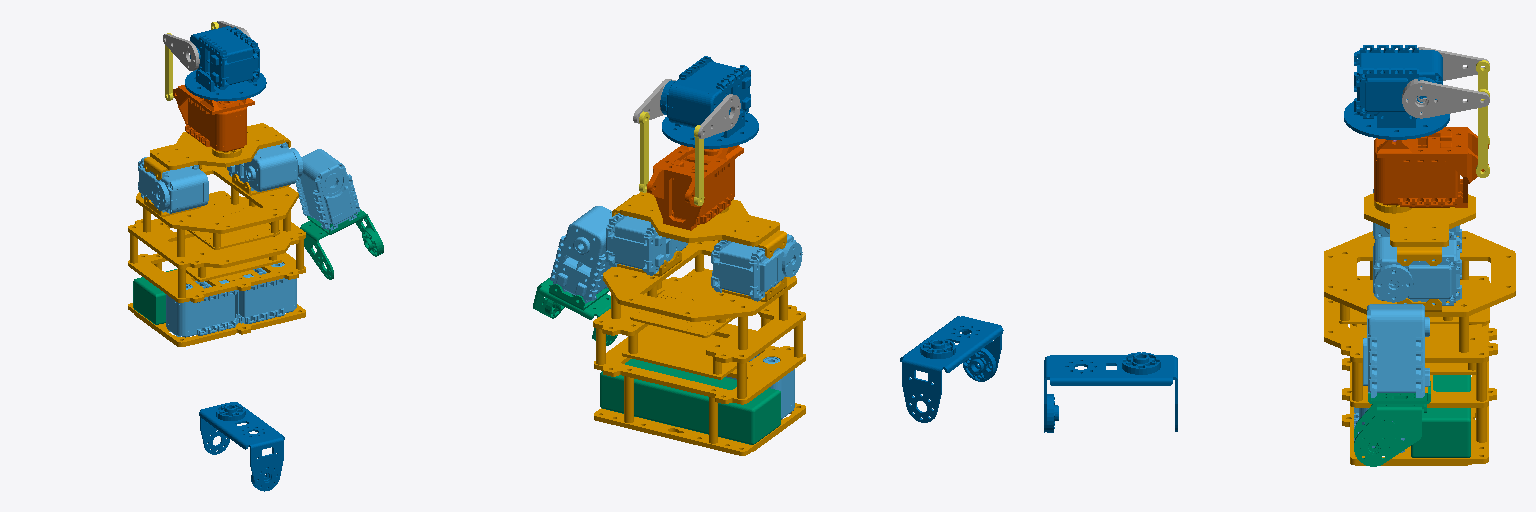
URDF robot description (hros1):
<?xml version="1.0" ?>
<!-- =================================================================================== -->
<!-- |    This document was autogenerated by xacro from hros1_robot.urdf.xacro         | -->
<!-- |    EDITING THIS FILE BY HAND IS NOT RECOMMENDED                                 | -->
<!-- =================================================================================== -->
<robot name="hros1" xmlns:xacro="http://ros.org/wiki/xacro">
  <!--
    <xacro:include filename="$(find hros1_description)/urdf/hros1_right_arm.xacro"/>
    <xacro:include filename="$(find hros1_description)/urdf/hros1_right_leg.xacro"/>
  -->
  <!--  MAIN BODY  -->
  <!--  MAIN LINK  -->
  <link name="body_structure_link">
    <gravity>1</gravity>
    <self_collide>0</self_collide>
    <kinematic>0</kinematic>
    <static>1</static>
    <visual name="body_structure_visual">
      <origin rpy="0 -0 0" xyz="0 0 0"/>
      <geometry>
        <mesh filename="package://hros1_description/meshes/body_structure.stl"/>
      </geometry>
      <!--
        <material>
          <script>
            <uri>file:/[local-path]/scripts/gazebo.material</uri>
            <name>Gazebo/Grey</name>
          </script>
        </material>
        -->
    </visual>
    <collision name="collision">
      <origin rpy="0 0 0" xyz="0 -0.055 0.08"/>
      <geometry>
        <box size="0.08 0.07 0.12"/>
      </geometry>
    </collision>
    <inertial>
      <origin rpy=" 0 -0 0" xyz="0 -0.065 0.082"/>
      <mass value="0.273"/>
      <inertia ixx="0.00074" ixy="-0.0000022" ixz="0.000000010" iyy="0.00088" iyz="0.000012" izz="0.00047"/>
    </inertial>
  </link>
  <!--  SERVOS ON BODY  -->
  <!--  JOINTS CONNECTED HERE  -->
  <link name="body_servos_link">
    <origin rpy="0 -0 0" xyz="0 0 0"/>
    <gravity>1</gravity>
    <self_collide>0</self_collide>
    <kinematic>0</kinematic>
    <visual name="body_servos_visual">
      <pose>0 0 0 0 -0 0</pose>
      <geometry>
        <mesh filename="package://hros1_description/meshes/body_servos.stl"/>
      </geometry>
    </visual>
    <inertial>
      <origin rpy=" 0 -0 0" xyz="0 -0.055 0.086"/>
      <mass value="0.221"/>
      <inertia ixx="0.000056" ixy="0.000000068" ixz="0.00000015" iyy="0.00078" iyz="-0.00010" izz="0.00031"/>
    </inertial>
  </link>
  <!--  MAIN BATTERY  -->
  <!--  ADDED FOR WEIGHT  -->
  <link name="body_battery_link">
    <origin rpy="0 -0 0" xyz="0 0 0"/>
    <gravity>0</gravity>
    <self_collide>0</self_collide>
    <kinematic>0</kinematic>
    <visual name="body_battery_visual">
      <origin rpy="0 -0 0" xyz="0 0 0"/>
      <geometry>
        <mesh filename="package://hros1_description/meshes/body_battery.stl"/>
      </geometry>
    </visual>
    <inertial>
      <origin rpy=" 0 -0 0" xyz="0 -0.078 0.036"/>
      <mass value="0.25"/>
      <inertia ixx="0.000037" ixy="-0.000000049" ixz="0.0" iyy="0.00026" iyz="0.0" izz="0.00027"/>
    </inertial>
  </link>
  <joint name="body_servos_fixture_joint" type="fixed">
    <parent link="body_structure_link"/>
    <child link="body_servos_link"/>
    <axis>
      <xyz>0 0 1</xyz>
    </axis>
  </joint>
  <joint name="body_battery_fixture_joint" type="fixed">
    <parent link="body_structure_link"/>
    <child link="body_battery_link"/>
    <axis>
      <xyz>0 1 0</xyz>
    </axis>
  </joint>
  <!--  ATTACHED TO TOP OF BODY -->
  <link name="neck_link_1_link">
    <origin rpy="0 -0 0" xyz="0 0 0"/>
    <gravity>1</gravity>
    <self_collide>0</self_collide>
    <kinematic>0</kinematic>
    <visual name="neck_link_1_visual">
      <origin rpy="0 -0 0" xyz="0 0 0"/>
      <geometry>
        <mesh filename="package://hros1_description/meshes/hros1_neck_link_1_moved.stl"/>
      </geometry>
    </visual>
    <inertial>
      <origin rpy="0 -0 0" xyz="0 -0.101 0.208"/>
      <mass value="0.005"/>
      <inertia ixx="0.0000012" ixy="0.0" ixz="0.0" iyy="0.0000032" iyz="0.0" izz="0.000002"/>
    </inertial>
  </link>
  <!--  NECK Head (Pitch Servo) -->
  <!--  ATTACHED TO BACK OF HEAD  -->
  <link name="neck_head_link">
    <origin rpy="0 -0 0" xyz="0 0 0"/>
    <gravity>1</gravity>
    <self_collide>1</self_collide>
    <kinematic>0</kinematic>
    <visual name="neck_head_visual">
      <origin rpy="0 -0 0" xyz="0 0 0"/>
      <geometry>
        <mesh filename="package://hros1_description/meshes/hros1_neck_head_servo_moved.stl"/>
      </geometry>
    </visual>
    <collision name="collision">
      <origin rpy="0 0 0 " xyz=" 0.0 -0.05 0.22"/>
      <geometry>
        <box size="0.02 0.02 0.02"/>
      </geometry>
    </collision>
    <inertial>
      <mass value="0.127"/>
      <inertia ixx="0.000036" ixy="0.00000050" ixz="-0.00000017" iyy="0.000027" iyz="-0.00000037" izz="0.000038"/>
    </inertial>
  </link>
  <!--  NECK Base (YAW SERVO) -->
  <!--  ATTACHED TO BACK OF HEAD  -->
  <link name="neck_base_link">
    <origin rpy="0 -0 0" xyz="0 0.0 0.0"/>
    <gravity>1</gravity>
    <self_collide>0</self_collide>
    <kinematic>0</kinematic>
    <visual name="neck_base_visual">
      <origin rpy="0 -0 0" xyz="0 0.0 0"/>
      <geometry>
        <mesh filename="package://hros1_description/meshes/hros1_neck_base_moved.stl"/>
      </geometry>
    </visual>
    <inertial>
      <origin rpy="0 -0 0" xyz="0 0.052 0"/>
      <mass value="0.075"/>
      <inertia ixx="0.000029" ixy="0.000000002" ixz="-0.0000000069" iyy="0.000016" iyz="0.00000045" izz="0.000026"/>
    </inertial>
  </link>
  <!--  Neck Head Platform  -->
  <!--  Supports to head; should be able to tilt  -->
  <link name="neck_base_platform_link">
    <origin rpy="0 -0 0" xyz="0 0 0"/>
    <gravity>1</gravity>
    <self_collide>1</self_collide>
    <kinematic>0</kinematic>
    <visual name="neck_base_platform_visual">
      <origin rpy="0 -0 0" xyz="0 0 0"/>
      <geometry>
        <mesh filename="package://hros1_description/meshes/hros1_neck_base_platform_moved.stl"/>
      </geometry>
    </visual>
    <collision name="collision">
      <origin rpy="0 0 0" xyz="0 -0.046 0.20955"/>
      <geometry>
        <cylinder length="0.0025" radius="0.02"/>
      </geometry>
    </collision>
    <inertial>
      <origin rpy="0 -0 0" xyz="0 -0.052 0.207"/>
      <mass value="0.012"/>
      <inertia ixx="0.0000017" ixy="0.0" ixz="0.0" iyy="0.0000019" iyz="0.0" izz="0.0000034"/>
    </inertial>
  </link>
  <!--  NECK Link 2  -->
  <!--  ATTACHED TO Head Servo  -->
  <link name="neck_link_2_link">
    <origin rpy="0 -0 0" xyz="0 0 0"/>
    <gravity>1</gravity>
    <self_collide>0</self_collide>
    <kinematic>0</kinematic>
    <visual name="neck_link_2_visual">
      <origin rpy="0 -0 0" xyz="0 0 0"/>
      <geometry>
        <mesh filename="package://hros1_description/meshes/hros1_neck_link_2_moved.stl"/>
      </geometry>
    </visual>
    <inertial>
      <origin rpy="0 -0 0" xyz="0 -0.077 0.231"/>
      <mass value="0.011"/>
      <inertia ixx="0.000002" ixy="0.0" ixz="0.0" iyy="0.0000057" iyz="0.0" izz="0.0000071"/>
    </inertial>
  </link>
  <joint name="neck_yaw_powered_joint" type="revolute">
    <parent link="body_structure_link"/>
    <child link="neck_base_link"/>
    <limit effort="1" lower="-3.1415" upper="3.1415" velocity="1"/>
    <axis xyz="0 0 1"/>
    <origin rpy="0 -0 0" xyz="0 0.052 0.16"/>
  </joint>
  <joint name="neck_base_platform_free_joint" type="revolute">
    <parent link="neck_base_link"/>
    <child link="neck_base_platform_link"/>
    <limit effort="0" lower="-3.1415" upper="3.1415" velocity="1"/>
    <axis xyz="1 0 0"/>
    <origin rpy="0 -0 0" xyz="0.0 0.0005 0.0425"/>
  </joint>
  <joint name="neck_pitch_1_free_joint" type="continuous">
    <parent link="neck_base_link"/>
    <child link="neck_link_1_link"/>
    <limit effort="0" lower="-3.1415" upper="3.1415" velocity="1"/>
    <axis xyz="1 0 0"/>
    <origin rpy="0 -0 0" xyz="0 0.05 0.026"/>
  </joint>
  <joint name="neck_pitch_2_free_joint" type="continuous">
    <parent link="neck_link_1_link"/>
    <child link="neck_link_2_link"/>
    <limit effort="0" lower="-3.1415" upper="3.1415" velocity="1"/>
    <axis xyz="1 0 0"/>
    <origin rpy="0 -0 0" xyz="0 0 0.046"/>
  </joint>
  <joint name="neck_pitch_main_powered_joint" type="revolute">
    <parent link="neck_link_2_link"/>
    <child link="neck_head_link"/>
    <limit effort="1" lower="-3.1415" upper="3.1415" velocity="1"/>
    <axis xyz="-1 0 0"/>
    <origin rpy="0 -0 0" xyz="0 -0.034 0.0"/>
  </joint>
  <!--  LEFT ARM SHOULDER  -->
  <link name="left_arm_shoulder_link">
    <origin rpy="0 -0 0" xyz="0 0 0"/>
    <gravity>1</gravity>
    <self_collide>0</self_collide>
    <kinematic>0</kinematic>
    <visual name="left_arm_shoulder_visual">
      <origin rpy="0 -0 0" xyz="0 0 0"/>
      <geometry>
        <mesh filename="package://hros1_description/meshes/hros1_left_arm_shoulder_moved.stl"/>
      </geometry>
    </visual>
    <inertial>
      <origin rpy="0 -0 0" xyz="0.068 -0.052 0.131"/>
      <mass value="0.011"/>
      <inertia ixx="0.0000051" ixy="0.0" ixz="0.00000058" iyy="0.0000023" iyz="0.0" izz="0.000005"/>
    </inertial>
  </link>
  <!--  LEFT ARM UPPER SERVO  -->
  <link name="left_arm_upper_servo_link">
    <origin xyz="0 0 0 0 -0 0"/>
    <gravity>1</gravity>
    <self_collide>0</self_collide>
    <kinematic>0</kinematic>
    <visual name="left_arm_upper_servo_visual">
      <origin rpy="0 -0 0" xyz="0 0 0"/>
      <geometry>
        <mesh filename="package://hros1_description/meshes/hros1_left_arm_upper_servo_moved.stl"/>
      </geometry>
    </visual>
    <inertial>
      <origin rpy="0 -0 0" xyz="0.085 -0.051 0.106"/>
      <mass value="0.055"/>
      <inertia ixx="0.000015" ixy="0.000000062" ixz="0.0000017" iyy="0.000013" iyz="-0.00000025" izz="0.0000089"/>
    </inertial>
  </link>
  <!--  LEFT ARM Elbow  -->
  <link name="left_arm_elbow_link">
    <origin rpy="0 -0 0" xyz="0 0 0"/>
    <gravity>1</gravity>
    <self_collide>0</self_collide>
    <kinematic>0</kinematic>
    <visual name="left_arm_elbow_visual">
      <origin rpy="0 -0 0" xyz="0 0 0"/>
      <geometry>
        <mesh filename="package://hros1_description/meshes/hros1_left_arm_elbow_link_moved.stl"/>
      </geometry>
    </visual>
    <inertial>
      <origin rpy="0 -0 0" xyz="0.093 -0.050 0.072"/>
      <mass value="0.016"/>
      <inertia ixx="0.0000036" ixy="0.00000016" ixz="-0.00000062" iyy="0.0000056" iyz="-0.00000064" izz="0.0000058"/>
    </inertial>
  </link>
  <!--  LEFT ARM FOREARM SERVO  -->
  <link name="left_arm_forearm_servo_link">
    <origin rpy="0 -0 0" xyz="0 0 0"/>
    <gravity>1</gravity>
    <self_collide>0</self_collide>
    <kinematic>0</kinematic>
    <visual name="left_arm_forearm_servo_visual">
      <origin rpy="0 -0 0" xyz="0 0 0"/>
      <geometry>
        <mesh filename="package://hros1_description/meshes/hros1_left_arm_forearm_servo_moved.stl"/>
      </geometry>
    </visual>
    <inertial>
      <origin rpy="0 -0 0" xyz="0.100 -0.028 0.047"/>
      <mass value="0.055"/>
      <inertia ixx="0.000013" ixy="0.0000011" ixz="0.00000051" iyy="0.000012" iyz="-0.0000034" izz="0.000012"/>
    </inertial>
  </link>
  <joint name="left_shoulder_pitch_powered_joint" type="revolute">
    <parent link="body_structure_link"/>
    <child link="left_arm_shoulder_link"/>
    <axis xyz="-1 0 0"/>
    <origin rpy="0 0 0" xyz="0.051 0.052 0.133"/>
    <limit effort="1" lower="-3.1415" upper="3.1415" velocity="1"/>
  </joint>
  <joint name="left_shoulder_roll_powered_joint" type="revolute">
    <parent link="left_arm_shoulder_link"/>
    <child link="left_arm_upper_servo_link"/>
    <axis xyz="0 -1 0"/>
    <origin rpy="0 0 0" xyz="0.03 0.02 -0.015"/>
    <limit effort="1" lower="-3.1415" upper="3.1415" velocity="1"/>
  </joint>
  <joint name="left_shoulder-elbow_fixed_joint" type="fixed">
    <parent link="left_arm_upper_servo_link"/>
    <child link="left_arm_elbow_link"/>
    <axis xyz="0 -1 0"/>
    <origin rpy="0 0 0" xyz="0.002 -0.033 -0.037"/>
  </joint>
  <joint name="left_elbow_powered_joint" type="revolute">
    <parent link="left_arm_elbow_link"/>
    <child link="left_arm_forearm_servo_link"/>
    <axis xyz="-0.8 0.0 -0.2"/>
    <origin rpy="0 0 0" xyz="-0.005 0.0 -0.03"/>
    <limit effort="1" lower="-3.1415" upper="3.1415" velocity="1"/>
  </joint>
  <!-- LEFT Upper HIP  -->
  <link name="left_leg_upper_hip_link">
    <origin rpy="0 -0 0" xyz="0 0 0"/>
    <gravity>1</gravity>
    <self_collide>0</self_collide>
    <kinematic>0</kinematic>
    <visual name="left_leg_upper_hip_visual">
      <origin rpy="0 -0 0" xyz="0 0 0"/>
      <geometry>
        <mesh filename="package://hros1_description/meshes/HROS1_Simple - Left_Leg_Yaw_Link.stl"/>
      </geometry>
    </visual>
    <inertial>
      <origin rpy="0 -0 0" xyz="0.039 -0.062 0.011"/>
      <mass value="0.017"/>
      <inertia ixx="0.000016" ixy="0.0" ixz="0.0" iyy="0.0000035" iyz="0.0" izz="0.000015"/>
    </inertial>
  </link>
  <!-- LEFT LOWER HIP  -->
  <!--
    <link name='left_leg_lower_hip_link'>
      <origin xyz="0 0 0 0 -0 0"/>
      <gravity>1</gravity>
      <self_collide>0</self_collide>
      <kinematic>0</kinematic>

      <visual name='left_leg_lower_hip_visual'>
        <origin xyz="0 0 0" rpy="0 -0 0"/>
        <geometry>
          <mesh filename="package://hros1_description/meshes/HROS1_Simple - Left_Leg_Hip_Joint.stl"/>
        </geometry>
      </visual>
      
      <inertial>
        <origin xyz="0.039 -0.062 -0.024" rpy="0 -0 0"/>
        <mass value="0.110"/>
        <inertia
          ixx="0.000058"
          ixy="-0.00000051"
          ixz="-0.00000024"
          
          iyy="0.000029"
          iyz="0.00000027"
          
          izz="0.000046"
          />
      </inertial>
    </link> 
-->
  <!-- LEFT THIGH  -->
  <!--
    <link name='left_leg_thigh_link'>
      <origin xyz="0 0 0 0 -0 0"/>
      <gravity>1</gravity>
      <self_collide>0</self_collide>
      <kinematic>0</kinematic>

      <visual name='left_leg_thigh_visual'>
        <origin xyz="0 0 0" rpy="0 -0 0"/>
        <geometry>
          <mesh filename="package://hros1_description/meshes/HROS1_Simple - Left_Leg_Thigh.stl"/>
        </geometry>
      </visual>
      
      <inertial>
        <origin xyz="0.039 -0.034 -0.053" rpy="0 -0 0"/>
        <mass value="0.028"/>
        <inertia
          ixx="0.000016"
          ixy="0.0"
          ixz="0.0"
          
          iyy="0.000023"
          iyz="-0.000002"
          
          izz="0.000013"
          />
      </inertial>
    </link>
-->
  <!-- LEFT KNEE  -->
  <!--
    <link name='left_leg_knee_link'>
      <origin xyz="0 0 0" rpy="0 -0 0"/>
      <gravity>1</gravity>
      <self_collide>0</self_collide>
      <kinematic>0</kinematic>

      <visual name='left_leg_knee_visual'>
        <origin xyz="0 0 0" rpy="0 -0 0"/>
        <geometry>
          <mesh filename="package://hros1_description/meshes/HROS1_Simple - Left_Leg_Knee.stl"/>
        </geometry>
      </visual>
      
      <inertial>
        <origin xyz="0.038 -0.027 -0.091" rpy="0 -0 0"/>
        <mass value="0.055"/>
        <inertia
          ixx="0.000013"
          ixy="-0.00000025"
          ixz="-0.000000074"
          
          iyy="0.0000090"
          iyz="-0.0000019"
          
          izz="0.000015"
          />
      </inertial>
    </link>
-->
  <!-- LEFT SHIN  -->
  <!--
    <link name='left_leg_shin_link'>
      <origin xyz="0 0 0" rpy="0 -0 0"/>
      <gravity>1</gravity>
      <self_collide>0</self_collide>
      <kinematic>0</kinematic>

      <visual name='left_leg_shin_visual'>
        <origin xyz="0 0 0" rpy="0 -0 0"/>
        <geometry>
          <mesh filename="package://hros1_description/meshes/HROS1_Simple - Left_Leg_Shin.stl"/>
        </geometry>
      </visual>
      
      <inertial>
        <origin xyz="0.039 -0.035 -0.125" rpy="0 -0 0"/>
        <mass value="0.021"/>
        <inertia
          ixx="0.0000094"
          ixy="0.0"
          ixz="0.0"
          
          iyy="0.000014"
          iyz="0.0000018"
          
          izz="0.0000088"
          />
      </inertial>
    </link>
-->
  <!-- LEFT ANKLE  -->
  <!--
    <link name='left_leg_ankle_link'>
      <origin xyz="0 0 0" rpy="0 -0 0"/>
      <gravity>1</gravity>
      <self_collide>0</self_collide>
      <kinematic>0</kinematic>

      <visual name='left_leg_ankle_visual'>
        <origin xyz="0 0 0" rpy="0 -0 0"/>
        <geometry>
          <mesh filename="package://hros1_description/meshes/HROS1_Simple - Left_Leg_Ankle_Joint.stl"/>
        </geometry>
      </visual>
      
      <inertial>
        <origin xyz="0.039 -0.062 -0.147" rpy="0 -0 0"/>
        <mass value="0.110"/>
        <inertia
          ixx="0.000058"
          ixy="-0.00000045"
          ixz="0.00000027"
          
          iyy="0.000029"
          iyz="-0.00000024"
          
          izz="0.000046"
          />
      </inertial>
    </link>
-->
  <!-- LEFT FOOT  -->
  <!--
    <link name='left_leg_foot_link'>
      <origin xyz="0 0 0" rpy="0 -0 0"/>
      <gravity>1</gravity>
      <self_collide>0</self_collide>
      <kinematic>0</kinematic>

      <visual name='left_leg_foot_visual'>
        <origin xyz="0 0 0" rpy="0 -0 0"/>
        <geometry>
          <mesh filename="package://hros1_description/meshes/HROS1_Simple - Left_Leg_Foot.stl"/>
        </geometry>
      </visual>
      
      <collision name="collision">
        <origin xyz=" -0.05 -0.05 -0.195" rpy="0 0 0 "/>
        <geometry>
          <box size="0.065 .1 0.01"/>
        </geometry>
      </collision>
      
      <inertial>
        <origin xyz="0.046 -0.052 -0.188" rpy="0 -0 0"/>
        <mass value="0.067"/>
        <inertia
          ixx="0.000006"
          ixy="0.0000017"
          ixz="0.0000011"
          
          iyy="0.000026"
          iyz="-0.0000014"
          
          izz="0.00008"
          />
      </inertial>
    </link>
 -->
  <joint name="left_hip_yaw_powered_joint" type="revolute">
    <parent link="body_structure_link"/>
    <child link="left_leg_upper_hip_link"/>
    <axis xyz="0 0 1"/>
    <origin rpy="0 0 0" xyz="-0.040 -0.045 0"/>
    <limit effort="1" lower="-3.1415" upper="3.1415" velocity="1"/>
  </joint>
  <!--
  <joint name="left_hip_roll_powered_joint" type="revolute">
    <parent link="left_leg_upper_hip_link"/>
    <child link="left_leg_lower_hip_link"/>
    <axis xyz="0 0 1"/>
    <origin xyz="-0.040 -0.045 -0.01" rpy="0 0 0"/>
    <limit effort="1" velocity="1" upper="3.1415" lower="-3.1415"/>
  </joint>
  
  
  <joint name="left_hip_pitch_powered_joint" type="revolute">
    <parent link="left_leg_lower_hip_link"/>
    <child link="left_leg_thigh_link"/>
    <axis xyz="0 0 1"/>
    <origin xyz="-0.040 -0.045 -0.01" rpy="0 0 0"/>
    <limit effort="1" velocity="1" upper="3.1415" lower="-3.1415"/>
  </joint>
  
  
  <joint name="left_knee_pitch_powered_joint" type="revolute">
    <parent link="left_leg_thigh_link"/>
    <child link="left_leg_knee_link"/>
    <axis xyz="0 0 1"/>
    <origin xyz="-0.015 -0.04 -0.09" rpy="0 0 0"/>
    <limit effort="1" velocity="1" upper="3.1415" lower="-3.1415"/>
  </joint>
  
  
  <joint name="left_knee-shin_fixed_joint" type="fixed">
    <parent link="left_leg_knee_link"/>
    <child link="left_leg_shin_link"/>
    <axis xyz="0 0 1"/>
    <origin xyz="-0.015 -0.04 -0.09" rpy="0 0 0"/>
    <limit effort="1" velocity="1" upper="3.1415" lower="-3.1415"/>
  </joint>
  
  
  <joint name="left_ankle_pitch_powered_joint" type="revolute">
    <parent link="left_leg_shin_link"/>
    <child link="left_leg_ankle_link"/>
    <axis xyz="0 0 1"/>
    <origin xyz="-0.015 -0.045 -0.16" rpy="0 0 0"/>
    <limit effort="1" velocity="1" upper="3.1415" lower="-3.1415"/>
  </joint>
  
  
  <joint name="left_ankle_roll_powered_joint" type="revolute">
    <parent link="left_leg_ankle_link"/>
    <child link="left_leg_foot_link"/>
    <axis xyz="0 0 1"/>
    <origin xyz="-0.04 -0.045 -0.16" rpy="0 0 0"/>
    <limit effort="1" velocity="1" upper="3.1415" lower="-3.1415"/>
  </joint>
  -->
  <!--
    <xacro:right_arm_links />
    <xacro:right_arm_joints />
    <xacro:right_leg_links />
    <xacro:right_leg_joints />
    -->
  <link name="world"/>
  <joint name="fixed_joint" type="fixed">
    <parent link="world"/>
    <child link="body_structure_link"/>
    <axis>
      <xyz>0 0 1</xyz>
    </axis>
  </joint>
</robot>

--- What the picture shows (computed from the rendered views, not written in the file) ---
Views: 3 orthographic renders of the robot side by side, from view 1: azimuth 30°, elevation 25°; view 2: azimuth 150°, elevation 25°; view 3: azimuth 270°, elevation 25°.
Robot: hros1 — 14 links, 13 joints (7 revolute, 2 continuous, 4 fixed); root link world; default pose: all joints at 0.
Visible links, largest first — view 1: body_structure_link, body_servos_link, neck_head_link, left_leg_upper_hip_link, left_arm_upper_servo_link, neck_base_link, left_arm_elbow_link, body_battery_link, neck_link_2_link; view 2: body_structure_link, body_servos_link, body_battery_link, left_leg_upper_hip_link, neck_head_link, neck_base_link, left_arm_upper_servo_link, left_arm_elbow_link, neck_link_2_link, neck_link_1_link; view 3: body_structure_link, neck_base_link, neck_head_link, left_arm_upper_servo_link, body_servos_link, left_leg_upper_hip_link, left_arm_elbow_link, body_battery_link, neck_link_2_link, neck_link_1_link.
Link boxes in pixels (x1=…): body_structure_link: x1=128, y1=123, x2=305, y2=346; body_servos_link: x1=138, y1=142, x2=302, y2=337; neck_head_link: x1=185, y1=26, x2=266, y2=100; left_leg_upper_hip_link: x1=199, y1=402, x2=284, y2=491; left_arm_upper_servo_link: x1=295, y1=149, x2=359, y2=230; neck_base_link: x1=173, y1=85, x2=254, y2=151; left_arm_elbow_link: x1=300, y1=209, x2=383, y2=279; body_battery_link: x1=133, y1=269, x2=176, y2=324; neck_link_2_link: x1=163, y1=21, x2=250, y2=70; body_structure_link: x1=593, y1=192, x2=805, y2=455; body_servos_link: x1=606, y1=213, x2=802, y2=419; body_battery_link: x1=600, y1=359, x2=780, y2=444; left_leg_upper_hip_link: x1=900, y1=316, x2=1003, y2=422; neck_head_link: x1=660, y1=56, x2=758, y2=148; neck_base_link: x1=647, y1=145, x2=743, y2=230; left_arm_upper_servo_link: x1=550, y1=206, x2=612, y2=303; left_arm_elbow_link: x1=533, y1=278, x2=617, y2=345; neck_link_2_link: x1=633, y1=79, x2=740, y2=138; neck_link_1_link: x1=639, y1=111, x2=704, y2=205; body_structure_link: x1=1324, y1=193, x2=1515, y2=465; neck_base_link: x1=1374, y1=127, x2=1488, y2=207; neck_head_link: x1=1344, y1=45, x2=1449, y2=139; left_arm_upper_servo_link: x1=1363, y1=304, x2=1429, y2=397; body_servos_link: x1=1354, y1=189, x2=1461, y2=452; left_leg_upper_hip_link: x1=1044, y1=352, x2=1177, y2=432; left_arm_elbow_link: x1=1354, y1=381, x2=1430, y2=466; body_battery_link: x1=1411, y1=375, x2=1470, y2=457; neck_link_2_link: x1=1402, y1=47, x2=1489, y2=118; neck_link_1_link: x1=1476, y1=60, x2=1489, y2=177.
Size in the robot's own frame: 0.2184 by 0.2651 by 0.2695 metres.
11 mesh visuals loaded from 13 distinct referenced files (6 binary STL, 5 ASCII STL); not drawn: 2 (reference not matched to a file when rendering).